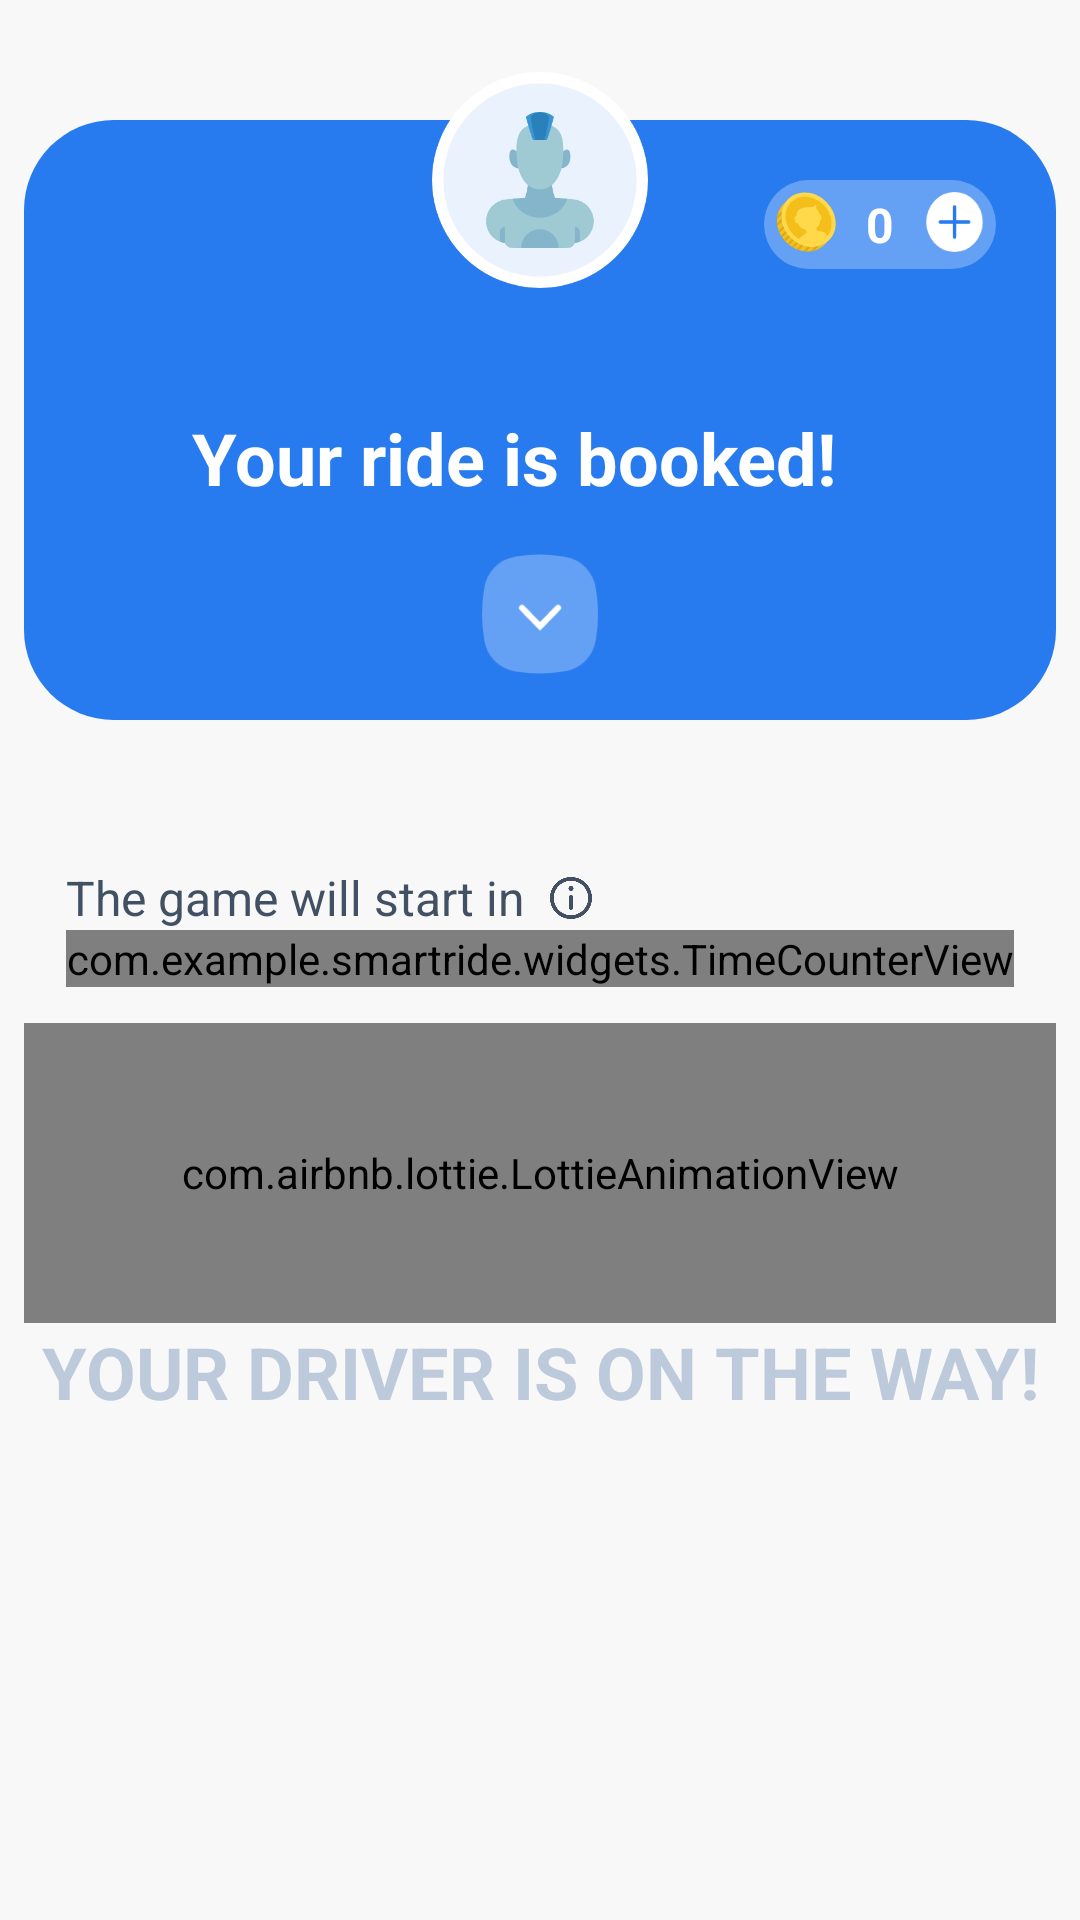

Point at icon controls on the screen. Image size 1080*1920, points as point (x, y).
arrow down: point (540, 614)
coin: point (806, 222)
info: point (571, 898)
plus: point (954, 222)
